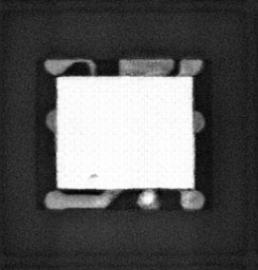DIE_INK: (89, 171, 97, 179)
